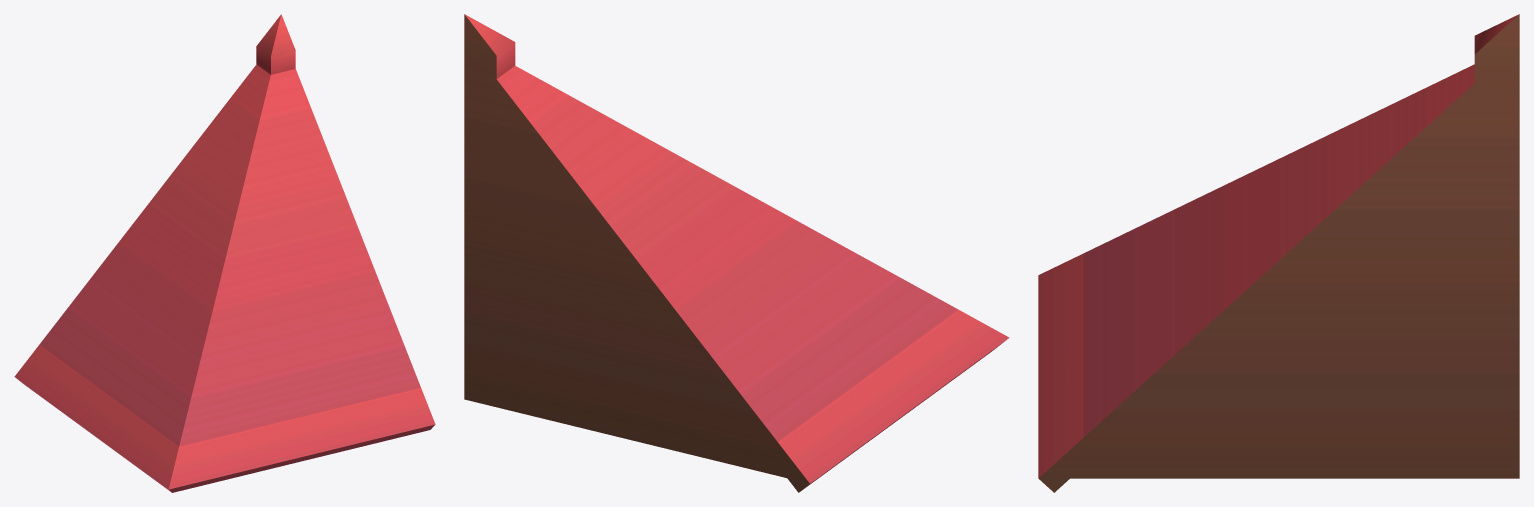
The model's file is roof-high-corner.glb.
3 renders of one model, left to right at view 1: azimuth 30°, elevation 25°; view 2: azimuth 150°, elevation 25°; view 3: azimuth 270°, elevation 25°, orthographic. The views are drawn at different scales.
Parts seen in each view (by area): view 1: roof-high-corner; view 2: roof-high-corner; view 3: roof-high-corner.
Part boxes in pixels (x1=…): roof-high-corner: x1=14, y1=14, x2=435, y2=492; roof-high-corner: x1=464, y1=14, x2=1009, y2=492; roof-high-corner: x1=1038, y1=14, x2=1519, y2=492.
Bounding box in the file's own units: 1.07 × 1.18 × 1.07.
Materials: 1 (1 with a texture image).
